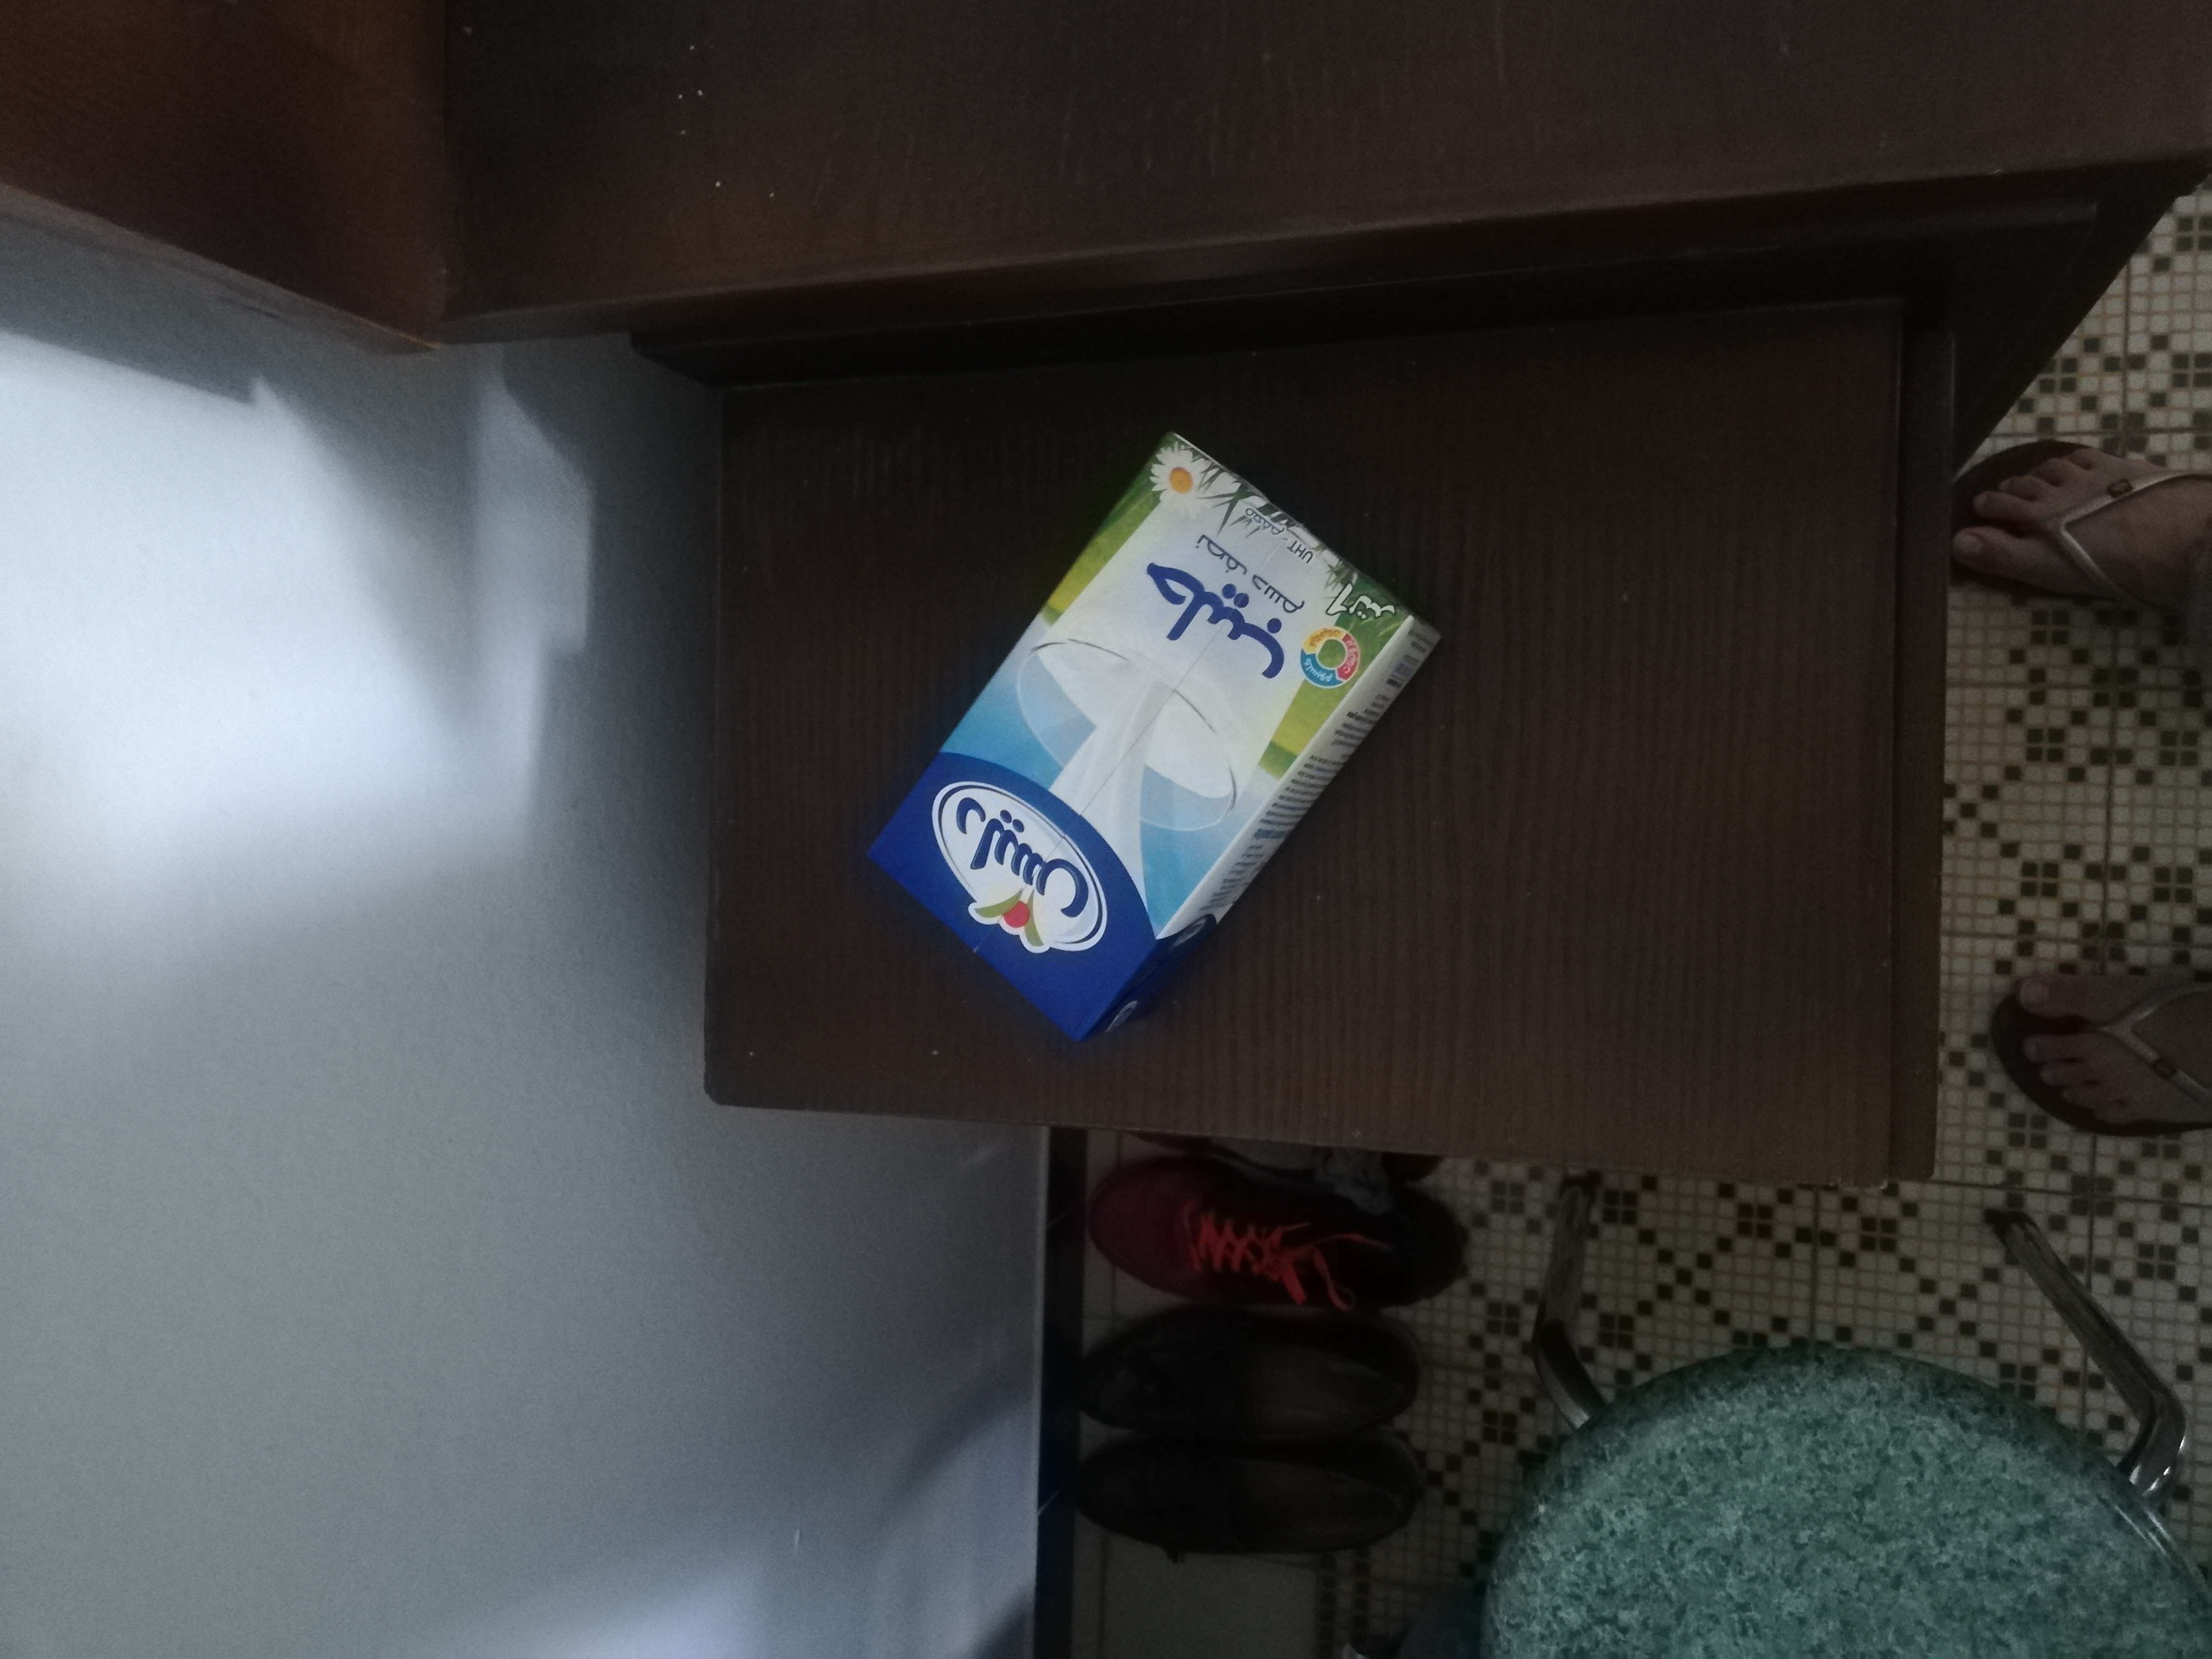Lait delice: (864, 437, 1442, 1051)
